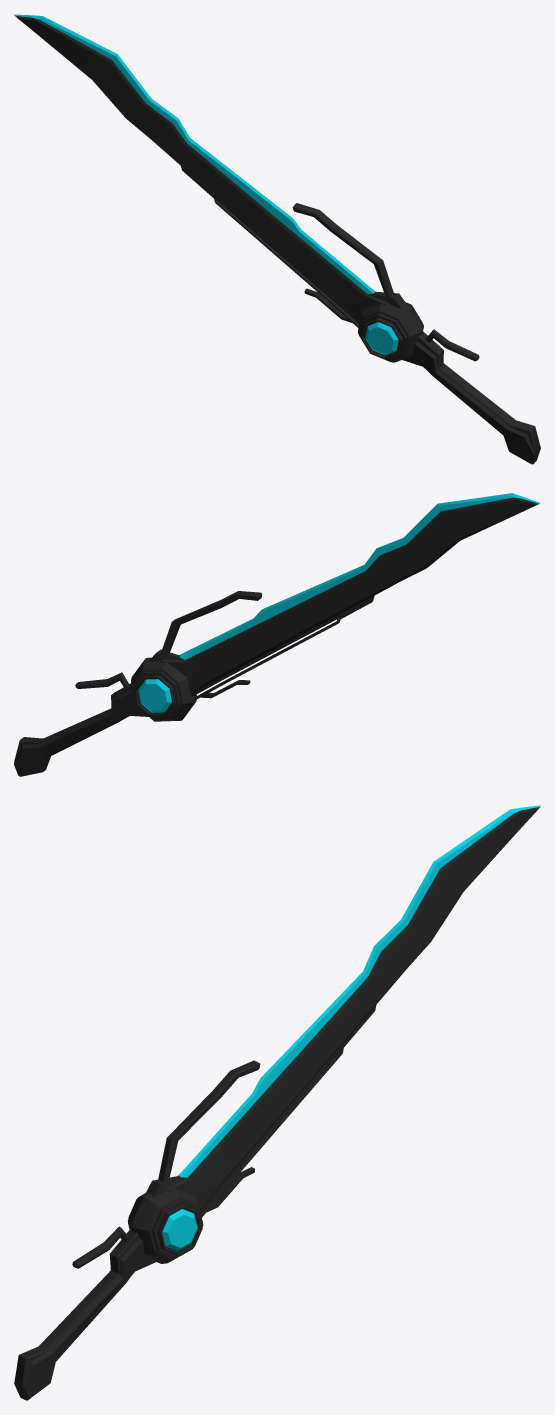
Rendered from SwordFBX.fbx.
3 renders of one model, top to bottom at view 1: azimuth 30°, elevation 25°; view 2: azimuth 210°, elevation 25°; view 3: azimuth 270°, elevation 25°, orthographic. The views are drawn at different scales.
Visible parts, largest first — view 1: sword; view 2: sword; view 3: sword.
Boxes of the visible parts, x1,y1,x2,y2 form: sword: [14, 14, 540, 464]; sword: [14, 493, 540, 776]; sword: [14, 805, 540, 1400].
Bounding box in the file's own units: 126 × 143 × 160.
